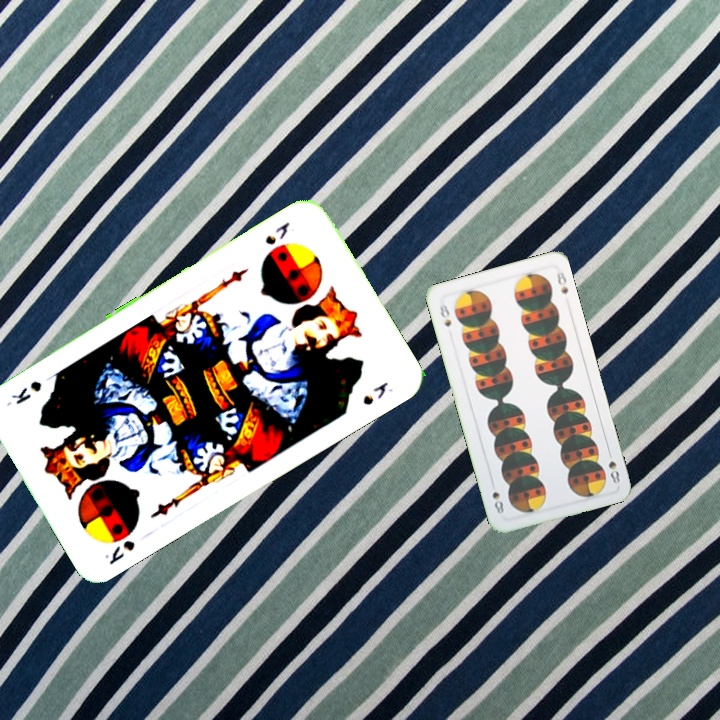S8: (604, 446, 622, 487), (436, 301, 454, 329)
SK: (100, 536, 138, 568), (261, 218, 292, 248)
